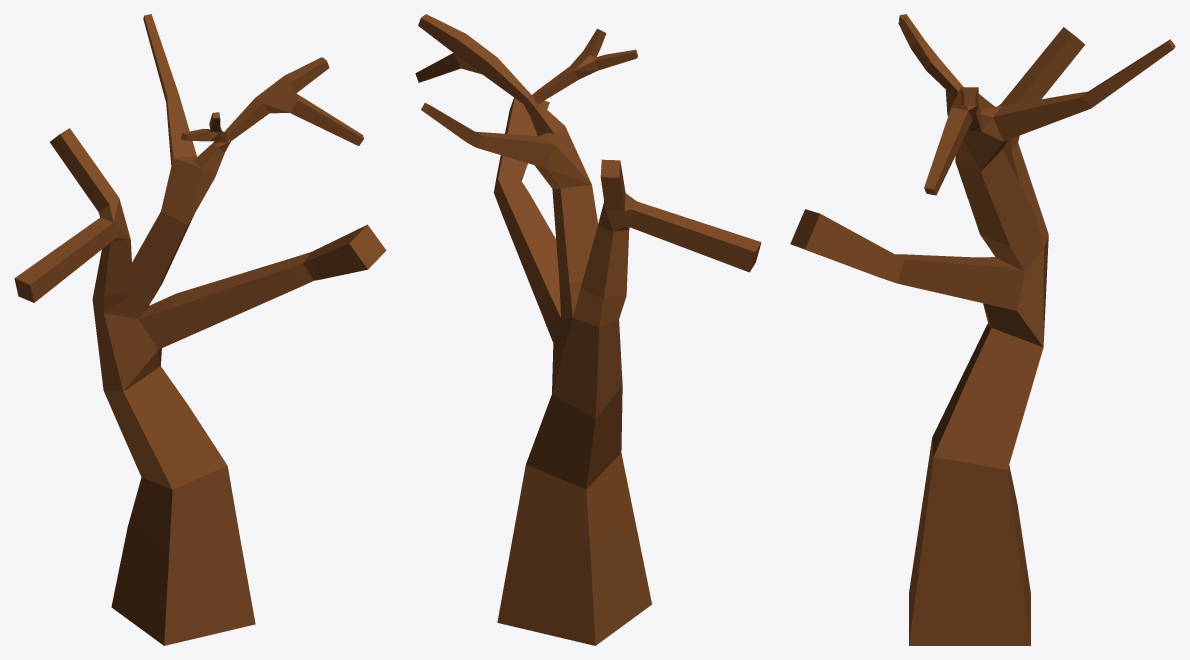
3 renders of one model, left to right at view 1: azimuth 30°, elevation 25°; view 2: azimuth 150°, elevation 25°; view 3: azimuth 270°, elevation 25°, orthographic. The views are drawn at different scales.
Parts seen in each view (by area): view 1: 큐브; view 2: 큐브; view 3: 큐브.
Part boxes in pixels (x1=…): 큐브: x1=14, y1=14, x2=386, y2=645; 큐브: x1=415, y1=14, x2=761, y2=645; 큐브: x1=790, y1=14, x2=1175, y2=645.
Bounding box in the file's own units: 1173 × 1773 × 1019.
